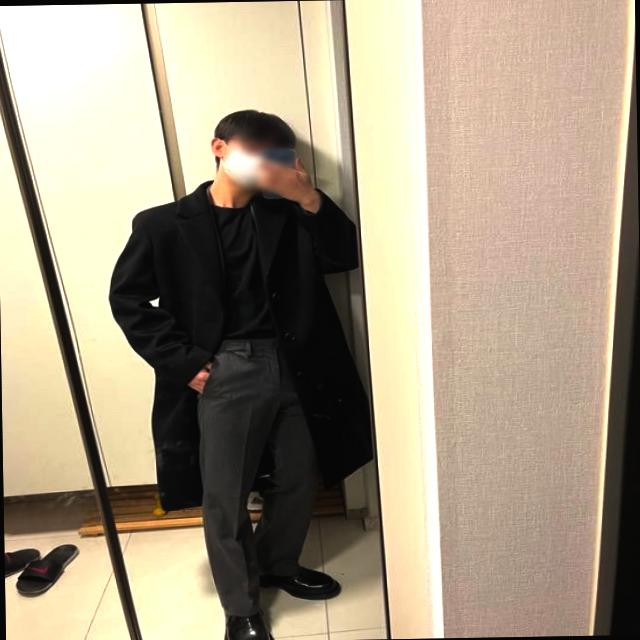coat: (107, 177, 370, 514)
slacks: (196, 334, 326, 614)
